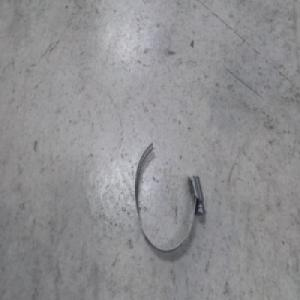AdjustableClamp: (133, 137, 204, 252)
